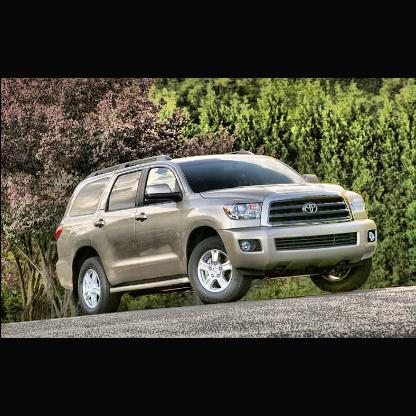Toyota Sequoia SUV 2012: (54, 153, 381, 316)
